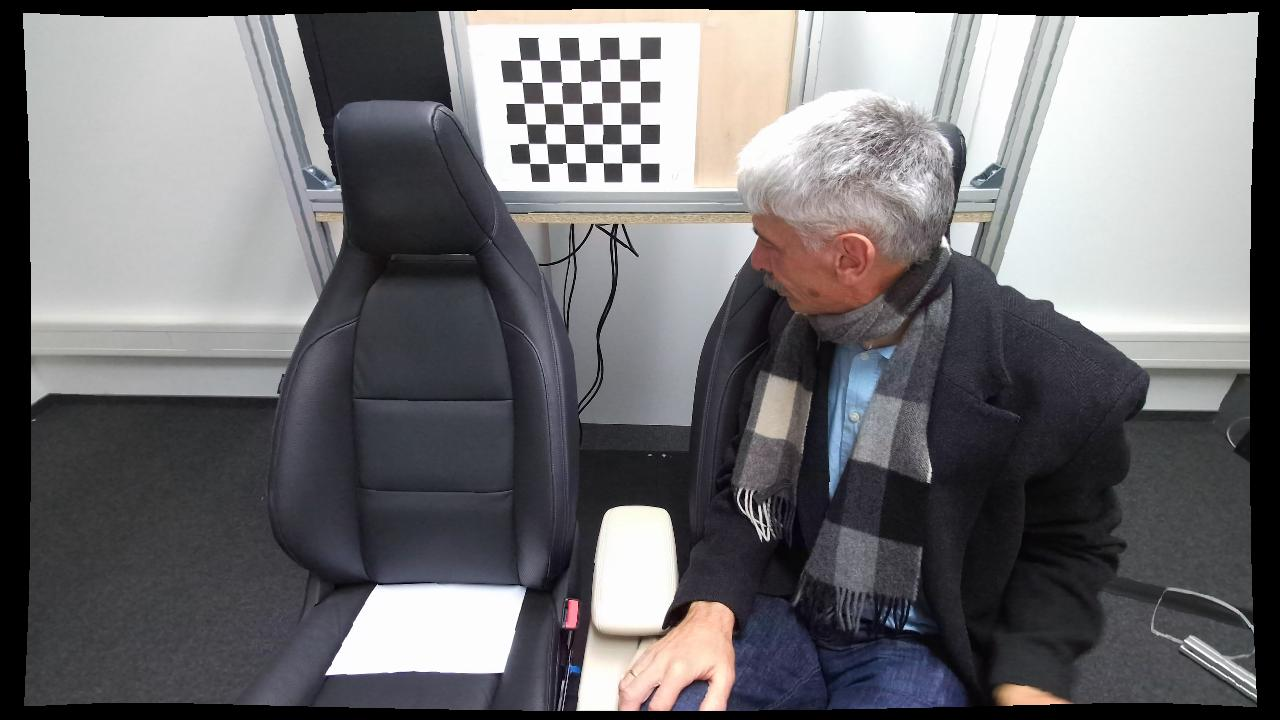Distracted: (612, 84, 1147, 710)
